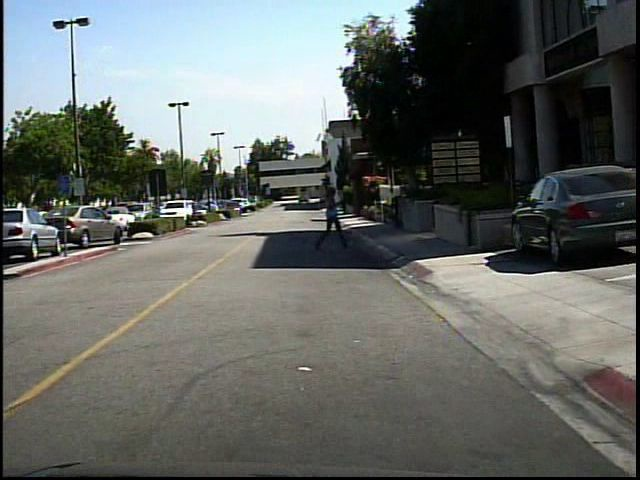person: (315, 185, 348, 254)
